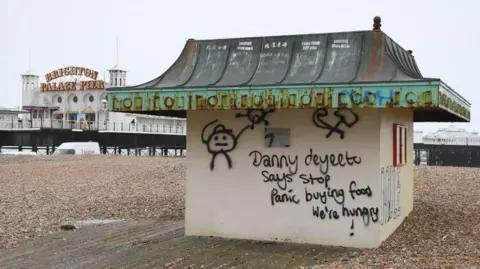graffiti: (250, 149, 378, 237), (201, 119, 249, 169), (313, 106, 359, 138), (381, 167, 400, 223), (235, 109, 273, 128)
